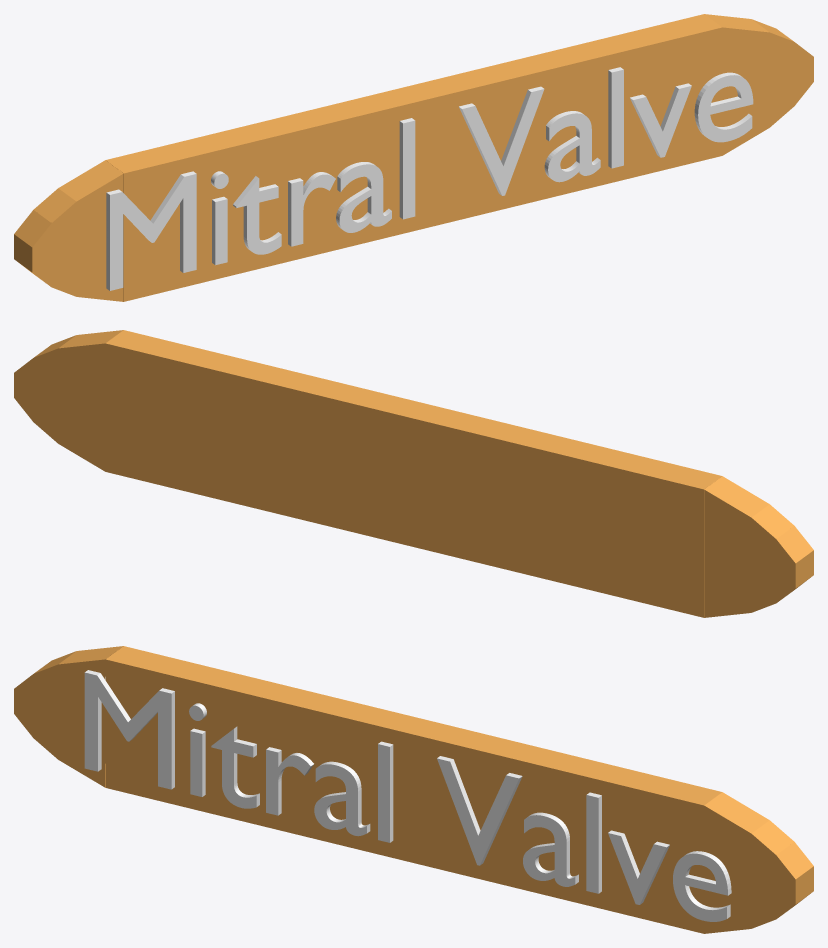
Rendered from txtMitralValve.fbx.
3 renders of one model, top to bottom at view 1: azimuth 30°, elevation 25°; view 2: azimuth 150°, elevation 25°; view 3: azimuth 330°, elevation 25°, orthographic.
Parts seen in each view (by area): view 1: TagContainer.043, Text.044; view 2: TagContainer.043; view 3: TagContainer.043, Text.044.
Part boxes in pixels (box(x1,y1,x2,y2)): TagContainer.043: box(14, 14, 813, 301); Text.044: box(106, 67, 753, 290); TagContainer.043: box(14, 330, 813, 617); TagContainer.043: box(14, 646, 813, 933); Text.044: box(84, 670, 731, 921).
Bounding box in the file's own units: 263 × 41.3 × 12.69.
